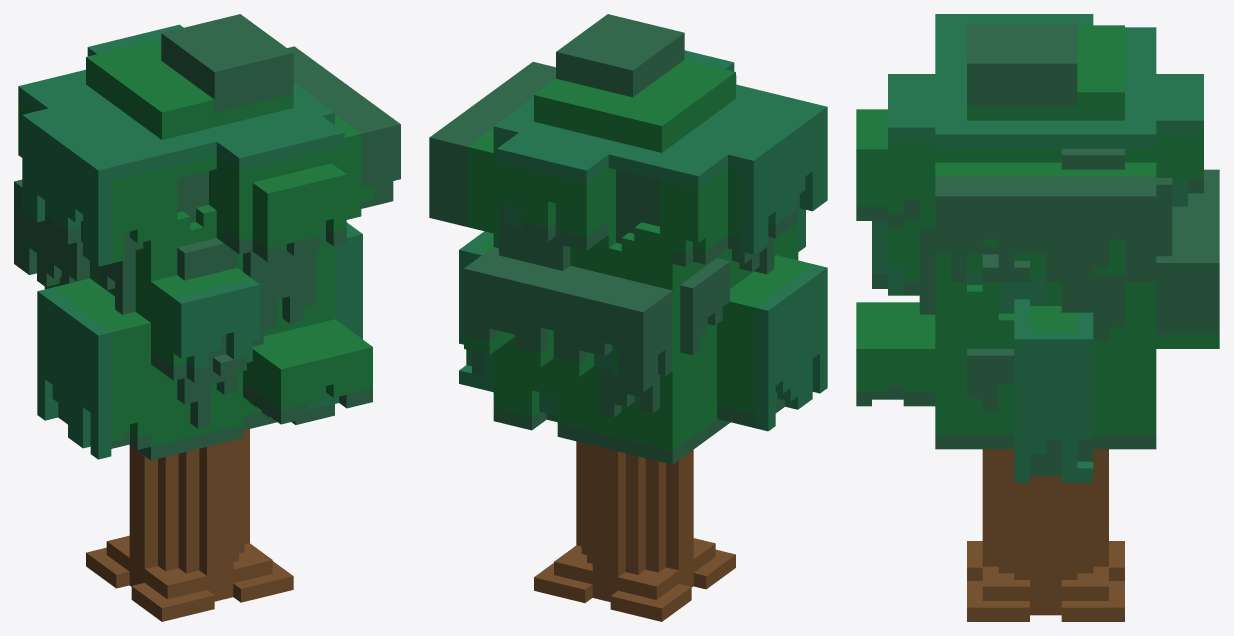
The model's file is Tree2.obj.
3 renders of one model, left to right at view 1: azimuth 30°, elevation 25°; view 2: azimuth 150°, elevation 25°; view 3: azimuth 270°, elevation 25°, orthographic. The views are drawn at different scales.
Bounding box in the file's own units: 2.3 × 3.9 × 2.3.
Materials: 1 (1 with a texture image).
